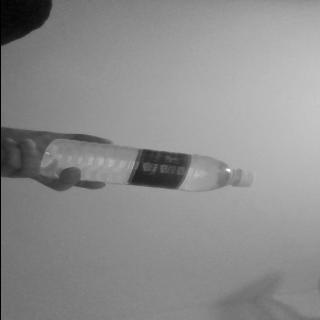plastic_bottles: (36, 138, 255, 193)
